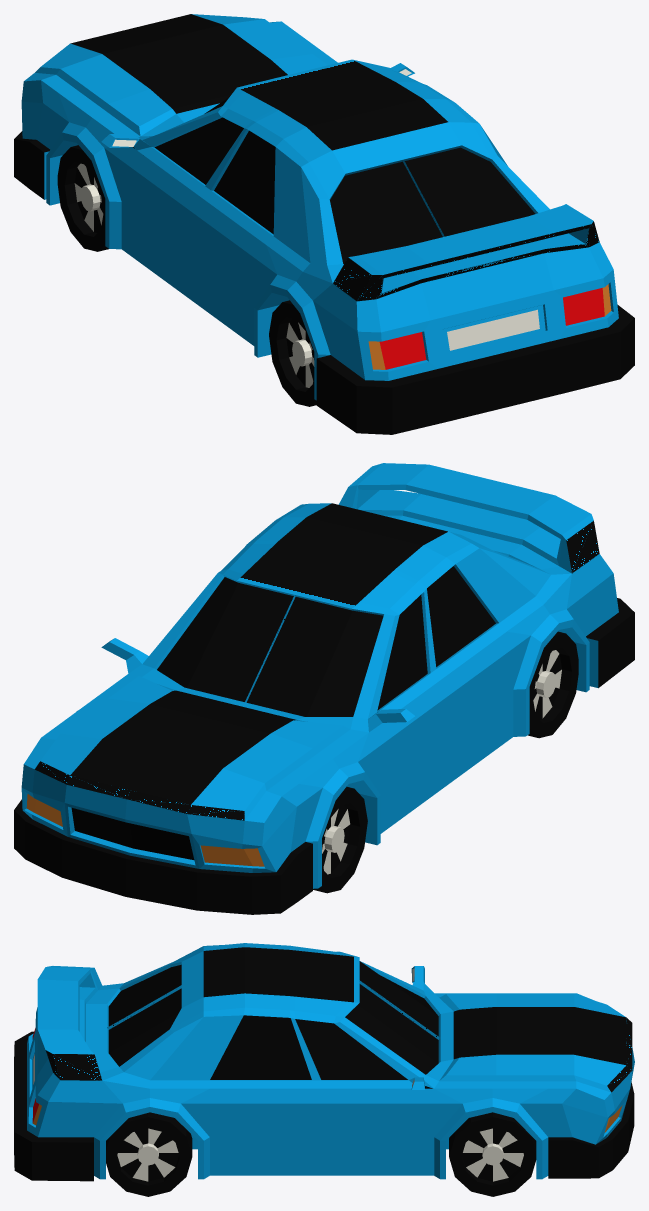
File: Car.fbx
The picture shows the model from 3 angles, top to bottom: view 1: azimuth 30°, elevation 25°; view 2: azimuth 150°, elevation 25°; view 3: azimuth 270°, elevation 25°; orthographic projection. The views are drawn at different scales.
Visible parts, largest first — view 1: Cube; view 2: Cube; view 3: Cube.
Part boxes in pixels (x1=…): Cube: x1=14, y1=14, x2=634, y2=434; Cube: x1=14, y1=463, x2=634, y2=914; Cube: x1=14, y1=943, x2=634, y2=1196.
Bounding box in the file's own units: 508 × 342 × 1096.
